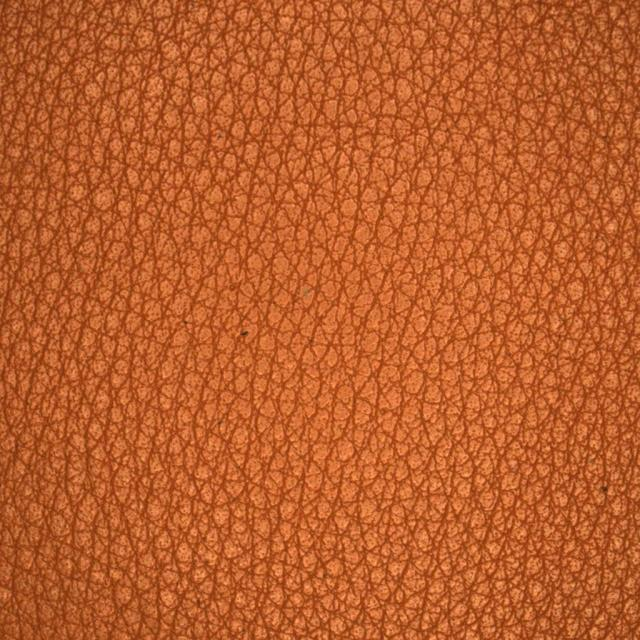pinhole: (166, 263, 316, 407)
